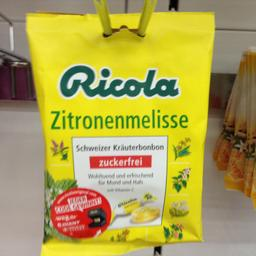candy: (22, 12, 212, 252)
